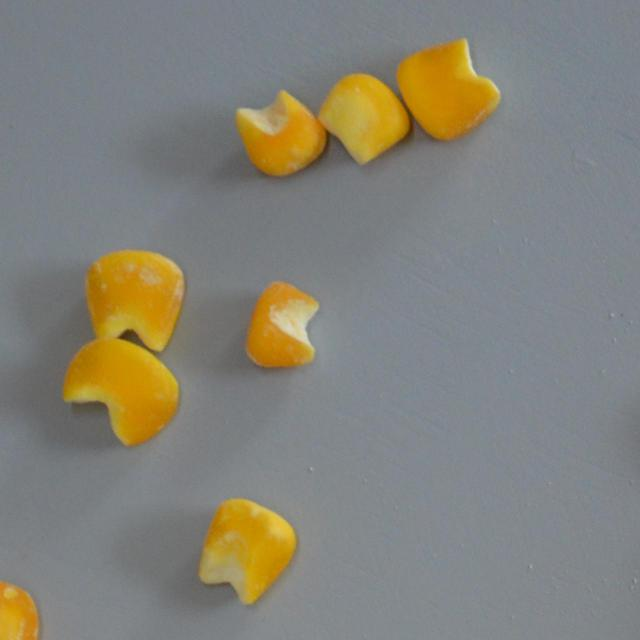no_canjicado: (58, 334, 183, 448)
pelicula: (196, 494, 300, 612), (392, 36, 502, 144), (80, 246, 188, 354), (232, 88, 330, 181), (242, 277, 322, 372), (0, 576, 42, 640)
